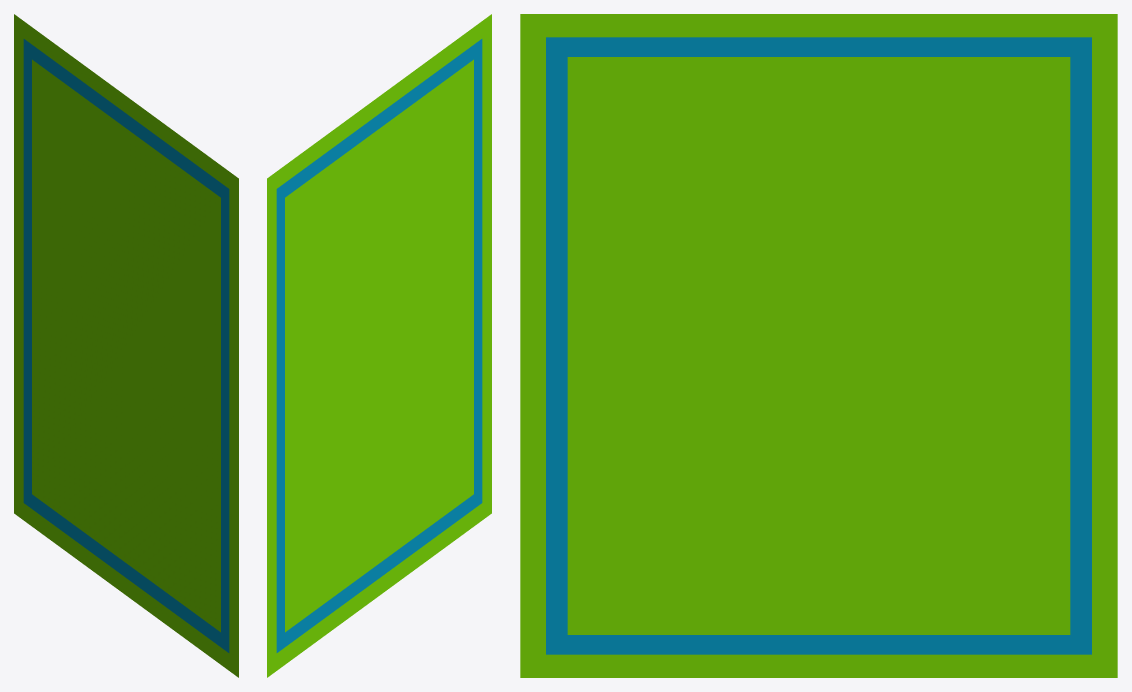
Rendered from Re_Drop_Target_Sticker_01.fbx.
The picture shows the model from 3 angles, left to right: view 1: azimuth 30°, elevation 25°; view 2: azimuth 150°, elevation 25°; view 3: azimuth 270°, elevation 25°; orthographic projection. The views are drawn at different scales.
Visible parts, largest first — view 1: Re_Drop_Target_Sticker_01; view 2: Re_Drop_Target_Sticker_01; view 3: Re_Drop_Target_Sticker_01.
Part boxes in pixels (x1,y1,x2,y2): Re_Drop_Target_Sticker_01: (14, 14, 238, 677); Re_Drop_Target_Sticker_01: (267, 14, 491, 677); Re_Drop_Target_Sticker_01: (520, 14, 1117, 677).
Size of the model in its own units: 0 by 2.86 by 2.33.
